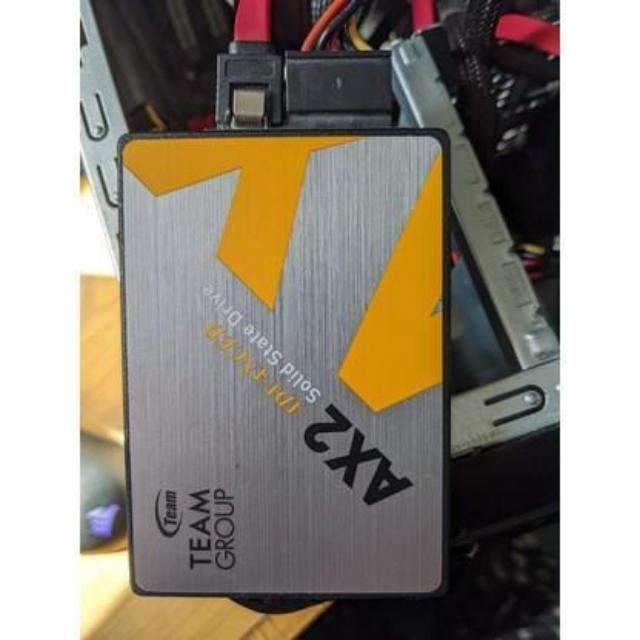DISK: (114, 130, 454, 602)
